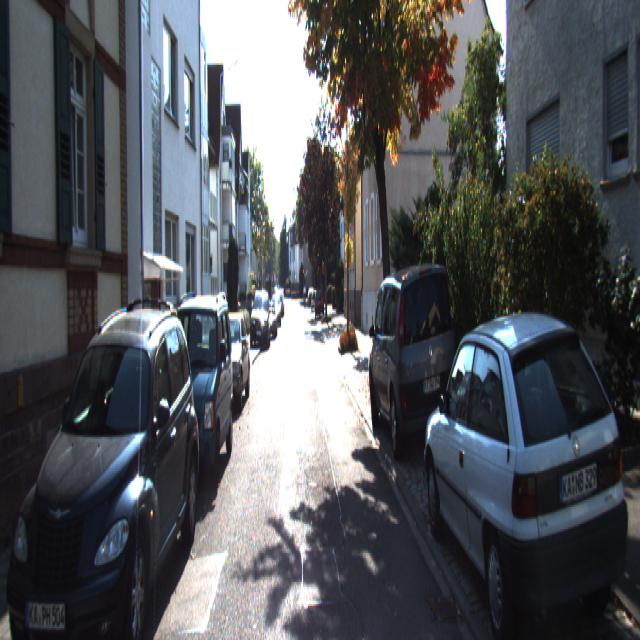Car: (422, 301, 640, 638), (0, 294, 201, 638), (364, 252, 462, 462), (158, 288, 235, 495), (202, 310, 252, 414), (250, 288, 270, 350)
